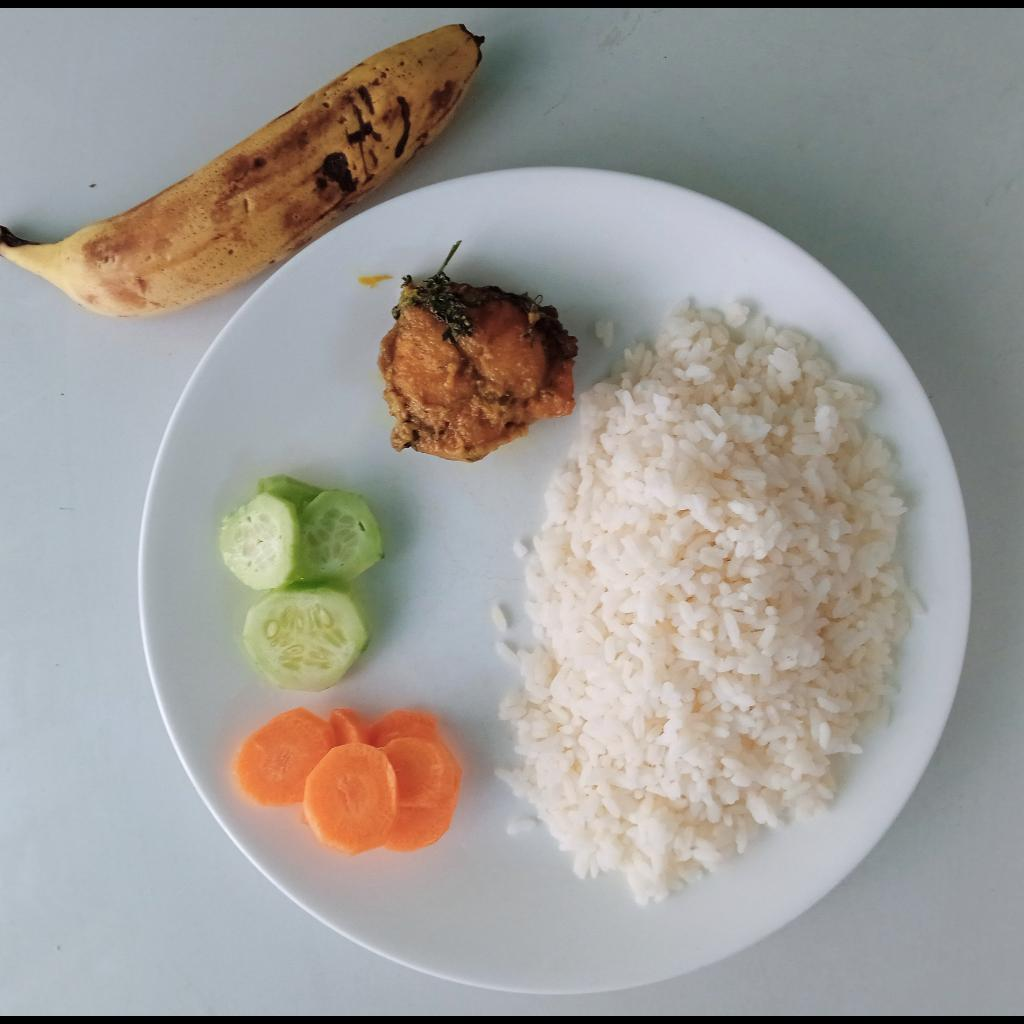banana: (23, 20, 484, 321)
carrot: (230, 707, 464, 861)
cucumber: (219, 474, 387, 693)
fish: (377, 277, 572, 466)
rice: (497, 301, 907, 912)
